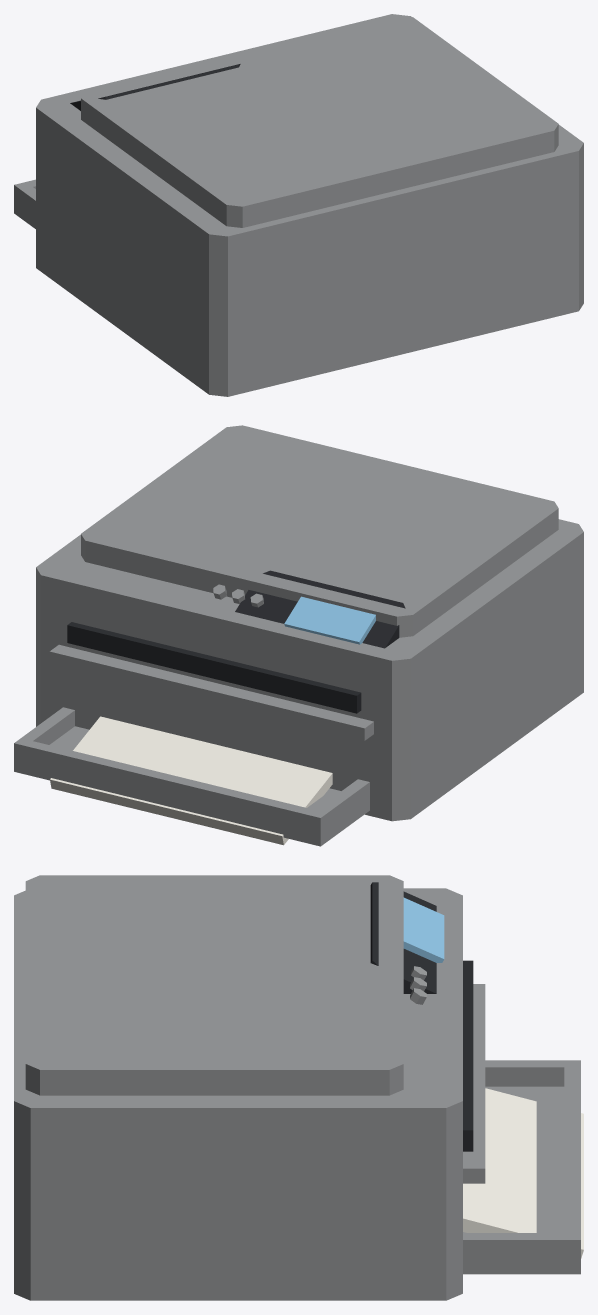
Rendered from SM_LPI_Tech_Printer_01.fbx.
3 views of the same model, one above another, from view 1: azimuth 30°, elevation 25°; view 2: azimuth 150°, elevation 25°; view 3: azimuth 270°, elevation 25° (orthographic). The views are drawn at different scales.
Parts seen in each view (by area): view 1: SM_LPI_Tech_Printer_01; view 2: SM_LPI_Tech_Printer_01; view 3: SM_LPI_Tech_Printer_01.
Boxes of the visible parts, x1,y1,x2,y2 form: SM_LPI_Tech_Printer_01: (14,14,583,396); SM_LPI_Tech_Printer_01: (14,425,583,846); SM_LPI_Tech_Printer_01: (14,875,583,1300).
Size of the model in its own units: 0.44 by 0.2187 by 0.4826.
